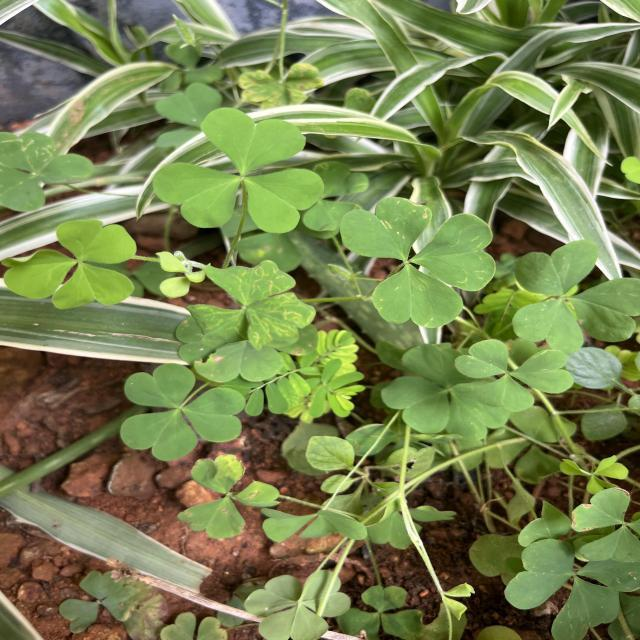Oxalis corniculata: (150, 106, 326, 234), (339, 196, 497, 330), (511, 237, 640, 355), (0, 217, 138, 311), (119, 362, 248, 462), (184, 258, 318, 350), (176, 452, 282, 540), (454, 339, 576, 413), (0, 130, 99, 213)
